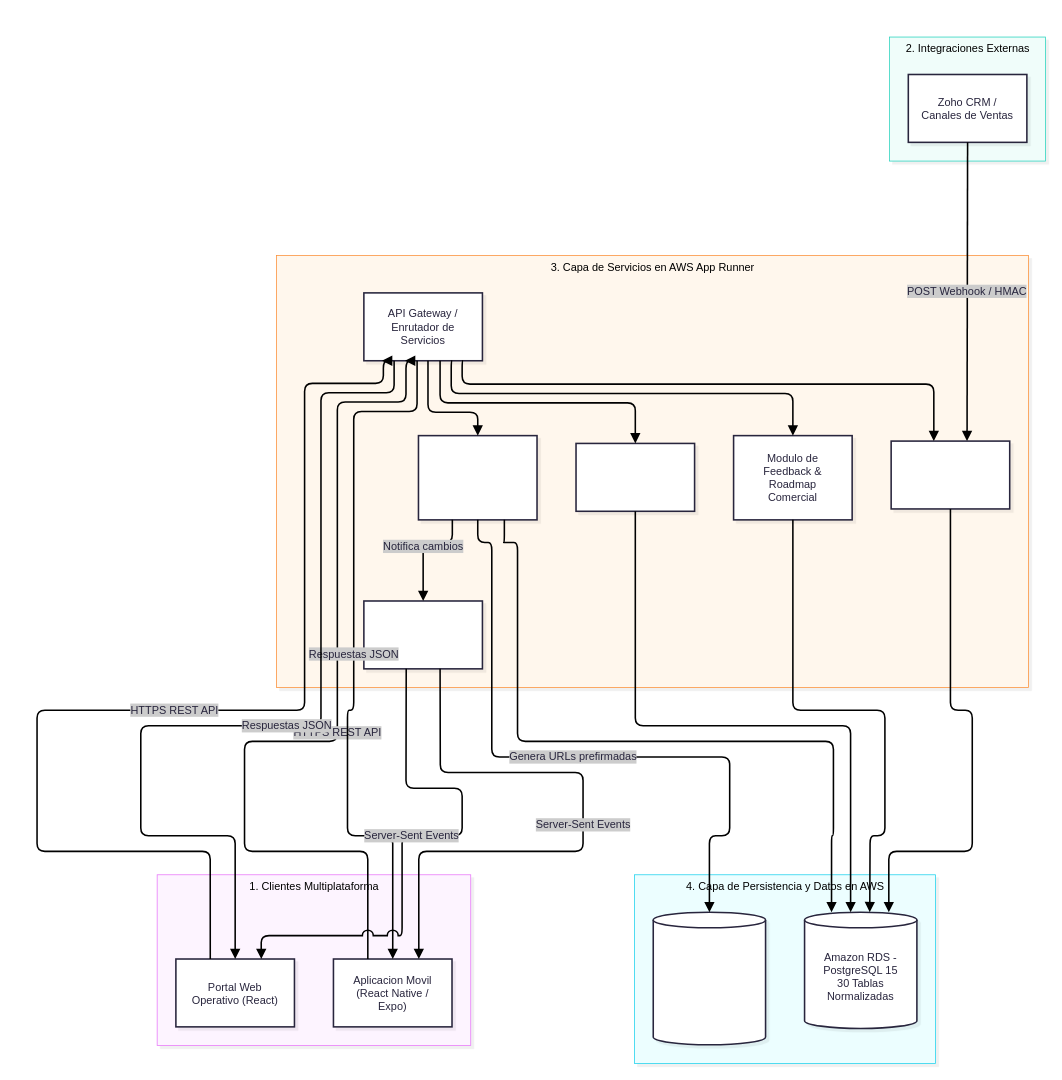
Image size: 1062x1080. Some labels were removed from this diagram. The centre of each missing label's shape, as x and y in pixels:
"Amazon S3 - Deposito Seguro Logs y Capturas de Error" goes at (x=710, y=979).
"Modulo de Autenticacion & RBAC" goes at (x=636, y=478).
"Modulo de Incidentes & Bloqueo Optimista" goes at (x=479, y=478).
"Receptor de Webhooks (Firma X-Zoho)" goes at (x=951, y=476).
"Servicio de Difusion de Eventos (SSE)" goes at (x=424, y=636).
